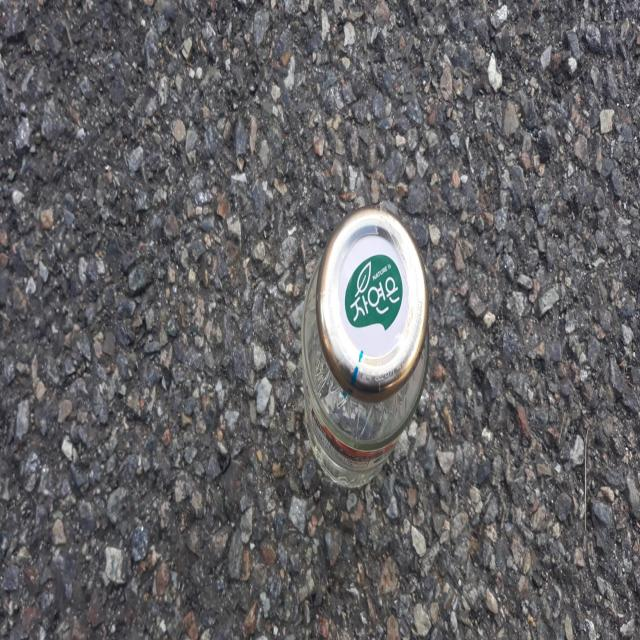glass: (302, 207, 429, 486)
